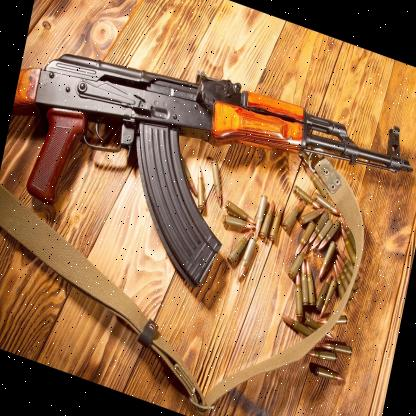rifle: (0, 2, 416, 351)
